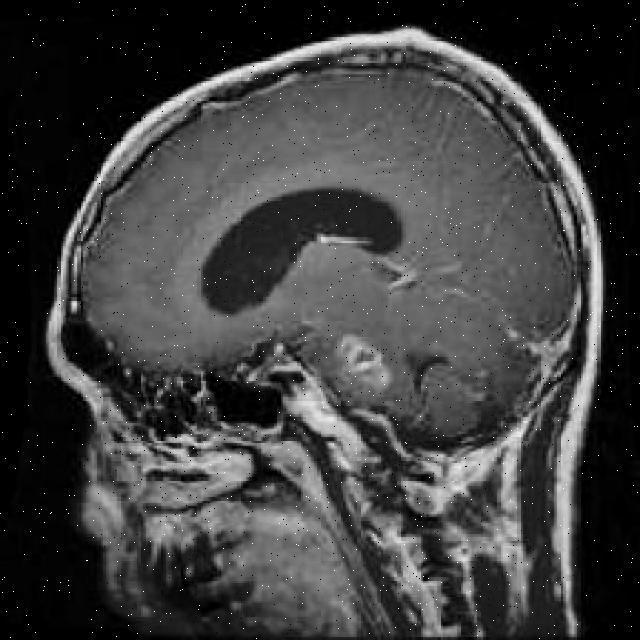EMCI: (214, 201, 423, 325)
